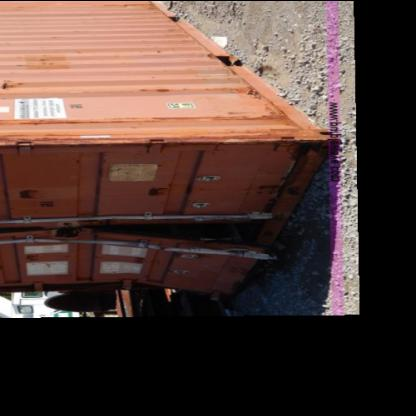Damage: (92, 210, 282, 266), (11, 128, 209, 156), (276, 126, 332, 162), (10, 167, 58, 202), (258, 176, 305, 196), (223, 84, 265, 104), (136, 79, 174, 96), (142, 184, 172, 204), (3, 74, 28, 91)
